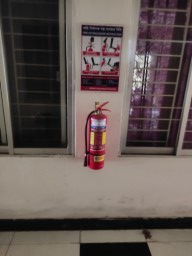fire_extinguisher: (76, 108, 128, 143)
